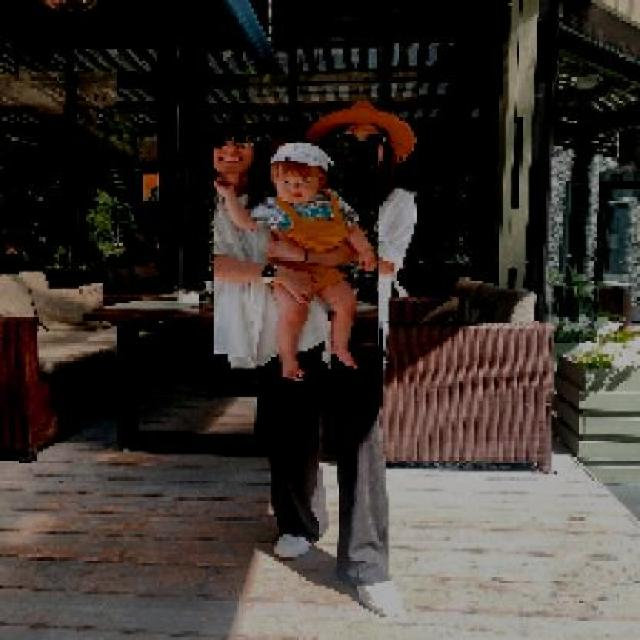child: (212, 140, 378, 380)
